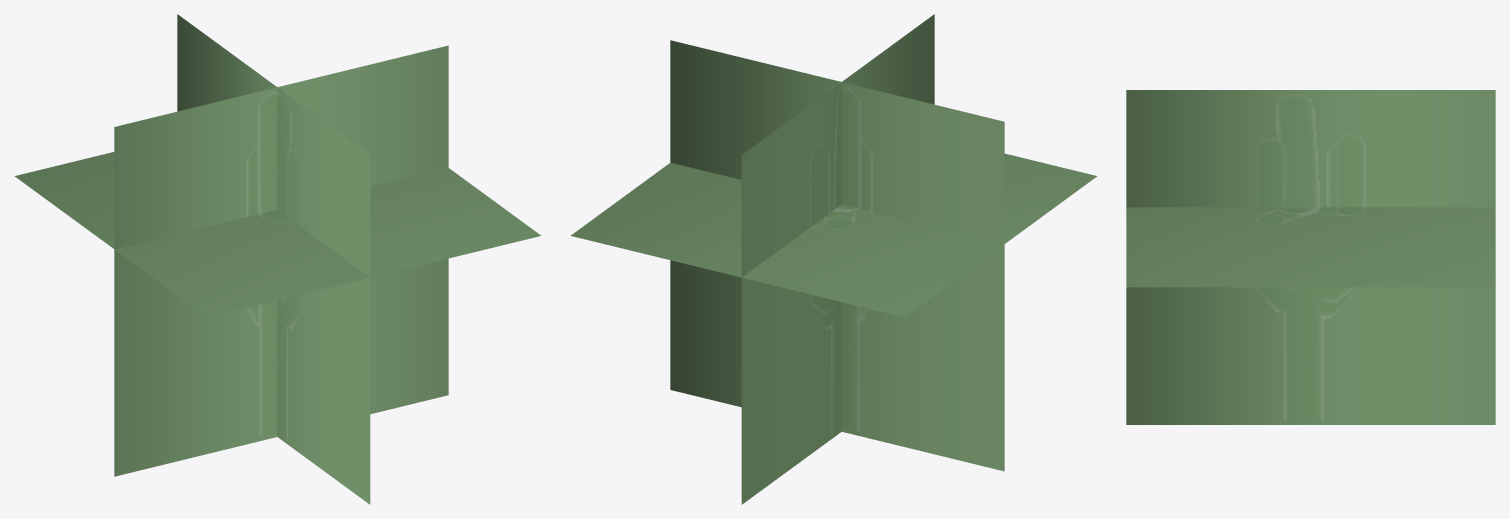
Rendered from saguaro_1_far.glb.
The picture shows the model from 3 angles, left to right: view 1: azimuth 30°, elevation 25°; view 2: azimuth 150°, elevation 25°; view 3: azimuth 270°, elevation 25°; orthographic projection. The views are drawn at different scales.
Parts seen in each view (by area): view 1: saguaro_1_far; view 2: saguaro_1_far; view 3: saguaro_1_far.
Part boxes in pixels (x1,y1,x2,y2): saguaro_1_far: (14,14,541,504); saguaro_1_far: (570,14,1097,504); saguaro_1_far: (1126,90,1495,424).
Bounding box in the file's own units: 6.03 × 6.03 × 6.03.
Materials: 1 (1 with a texture image).
